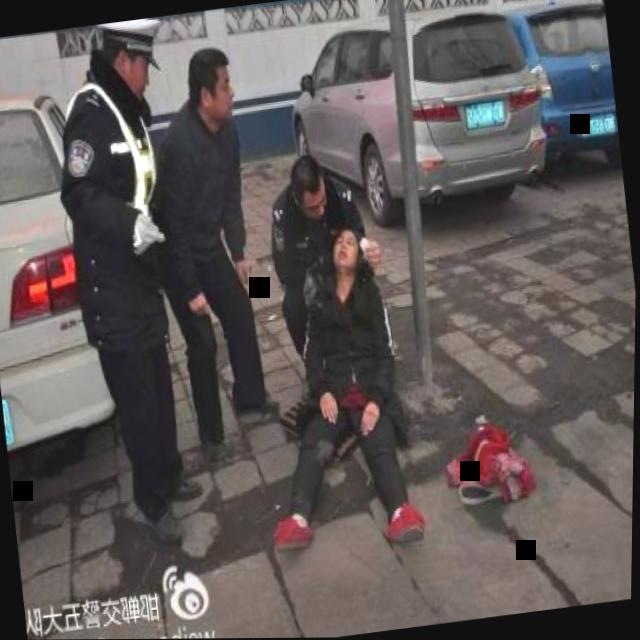Fall-Detected: (434, 391, 547, 520)
